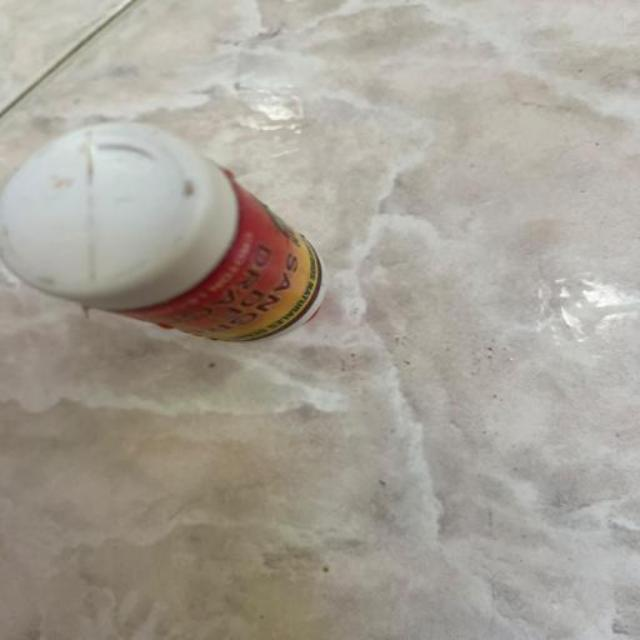HDPE: (0, 13, 364, 549)
